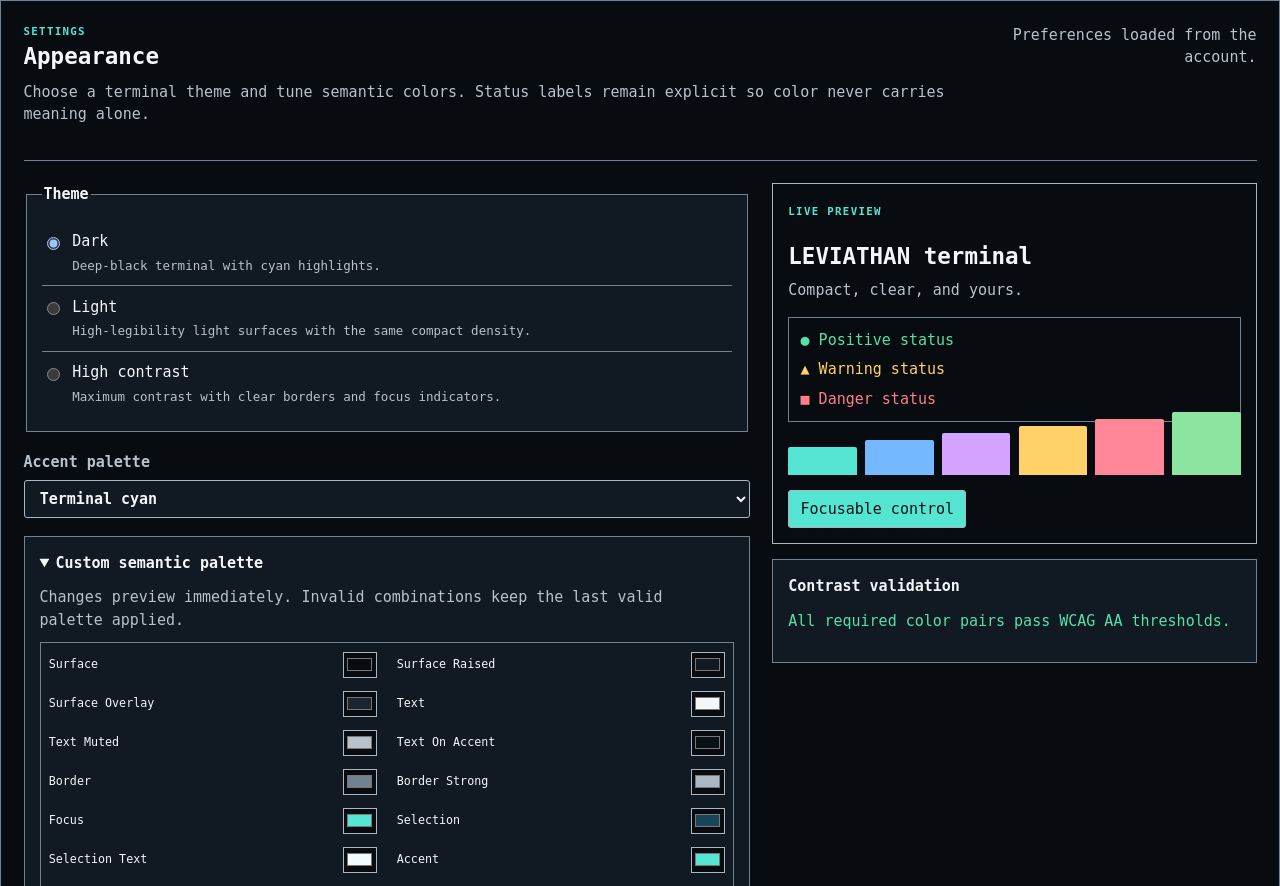
Scenario: AppearanceSettings › previews valid choices immediately and retains the applied palette for invalid edits
The width and height of the screenshot is (1280, 886).
Expected: the text "Preferences loaded from the account." is shown, [970, 24, 1256, 68]
Click the radio button labelled "Light" at x=53, y=309, box [46, 302, 60, 315]
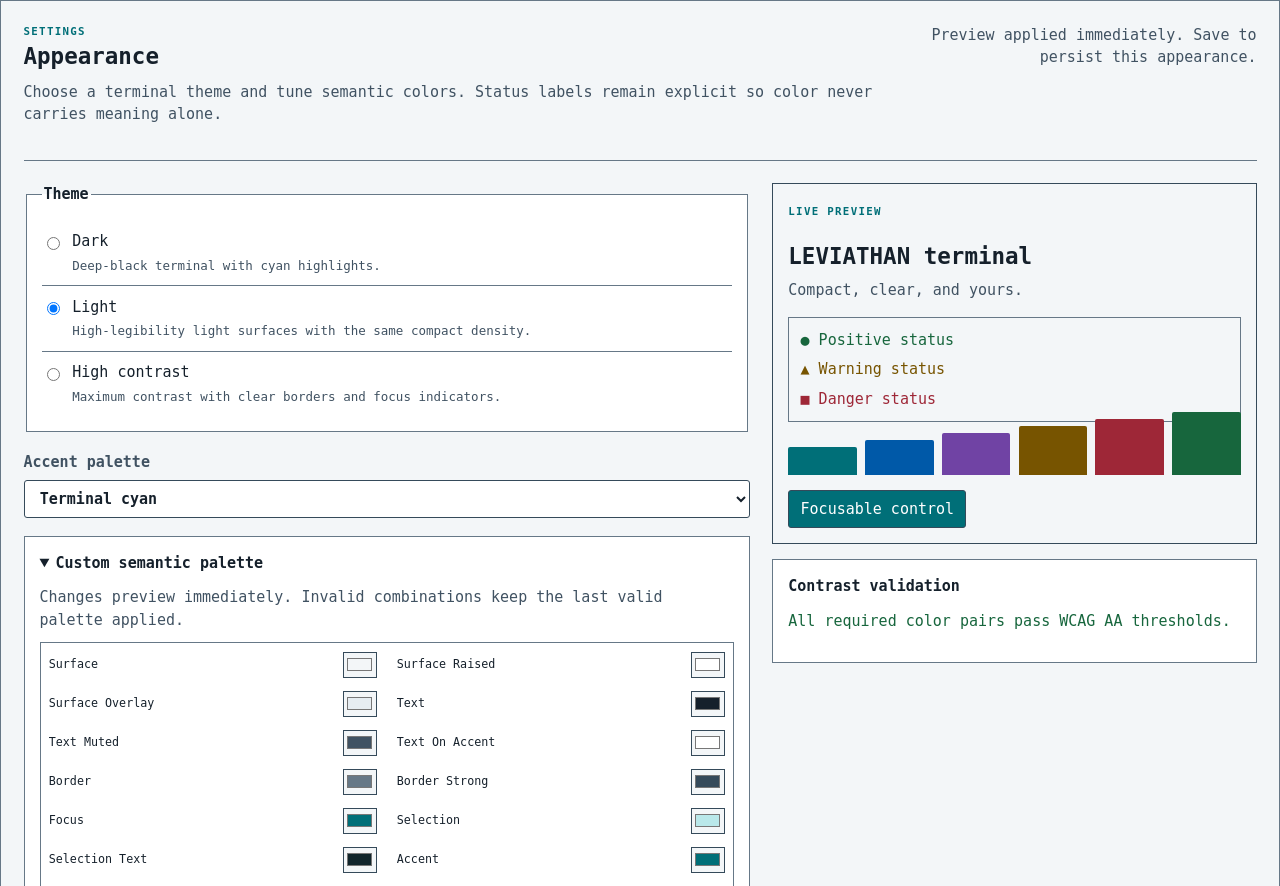
Type "#FFFFFF" into the colour field named "Custom Text color" at x=708, y=704, box [691, 691, 725, 717]
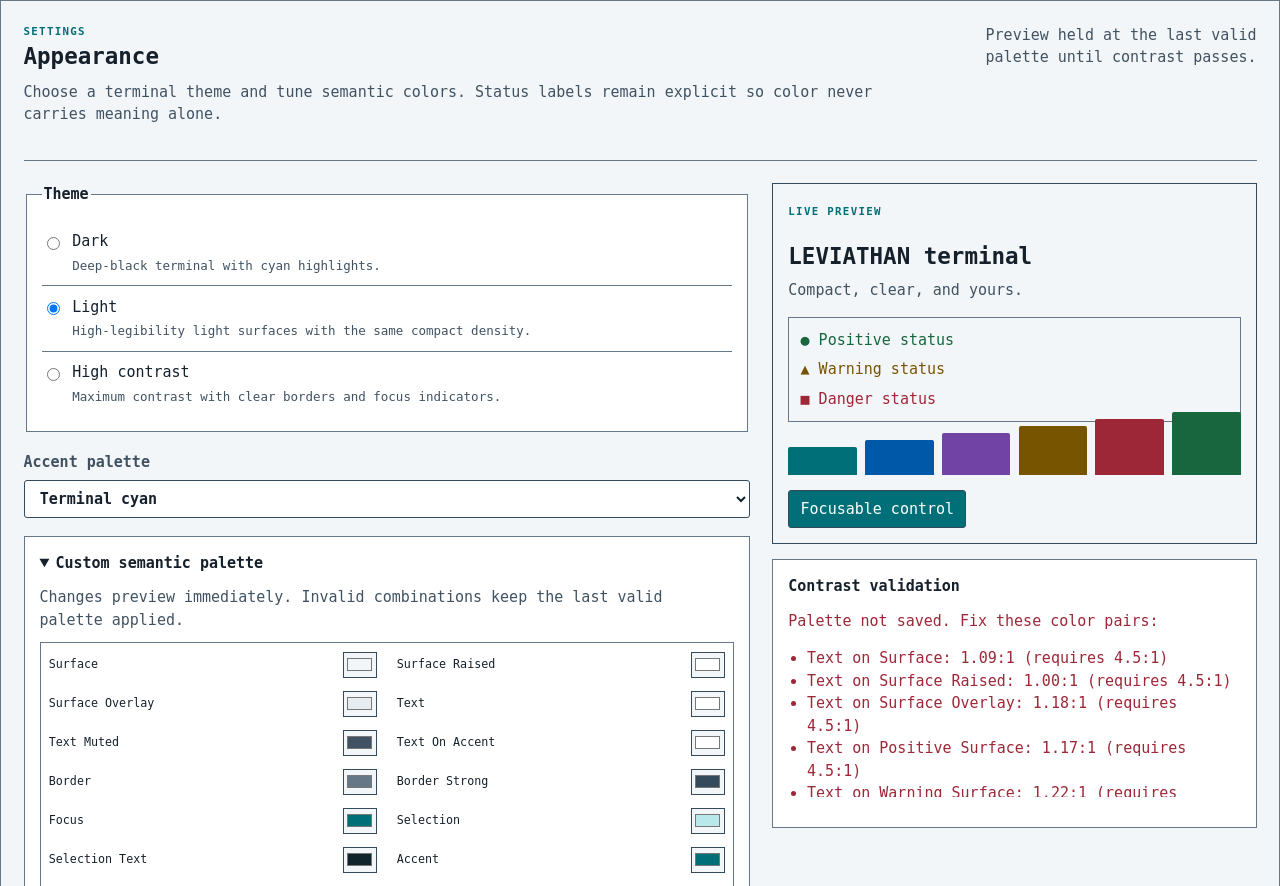
Expected: the text "Palette not saved. Fix these color pairs:" is shown, [788, 612, 1159, 630]
Expected: the list item "Text on Surface: 1.09:1 (requires 4.5:1)" is shown, [807, 649, 1168, 667]
